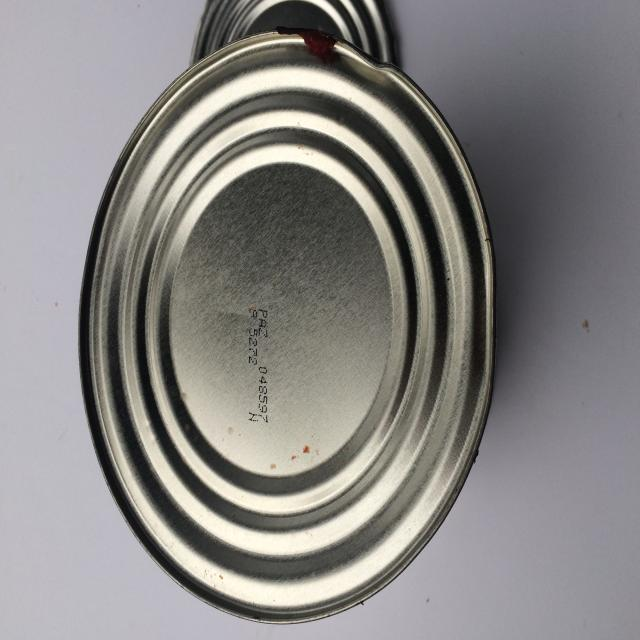metal: (77, 24, 497, 624)
